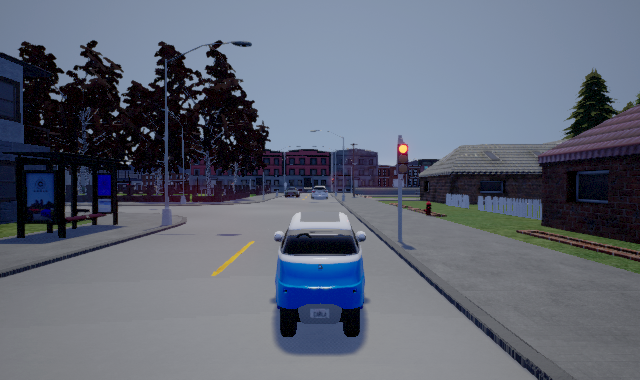traffic_light: (396, 138, 408, 180)
vehicle: (274, 211, 366, 337), (310, 185, 329, 201), (284, 188, 299, 198)
